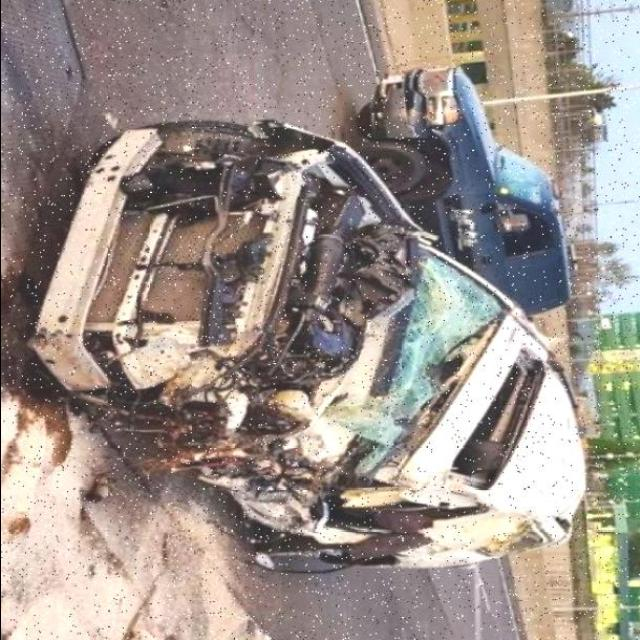accident: (40, 101, 596, 601)
